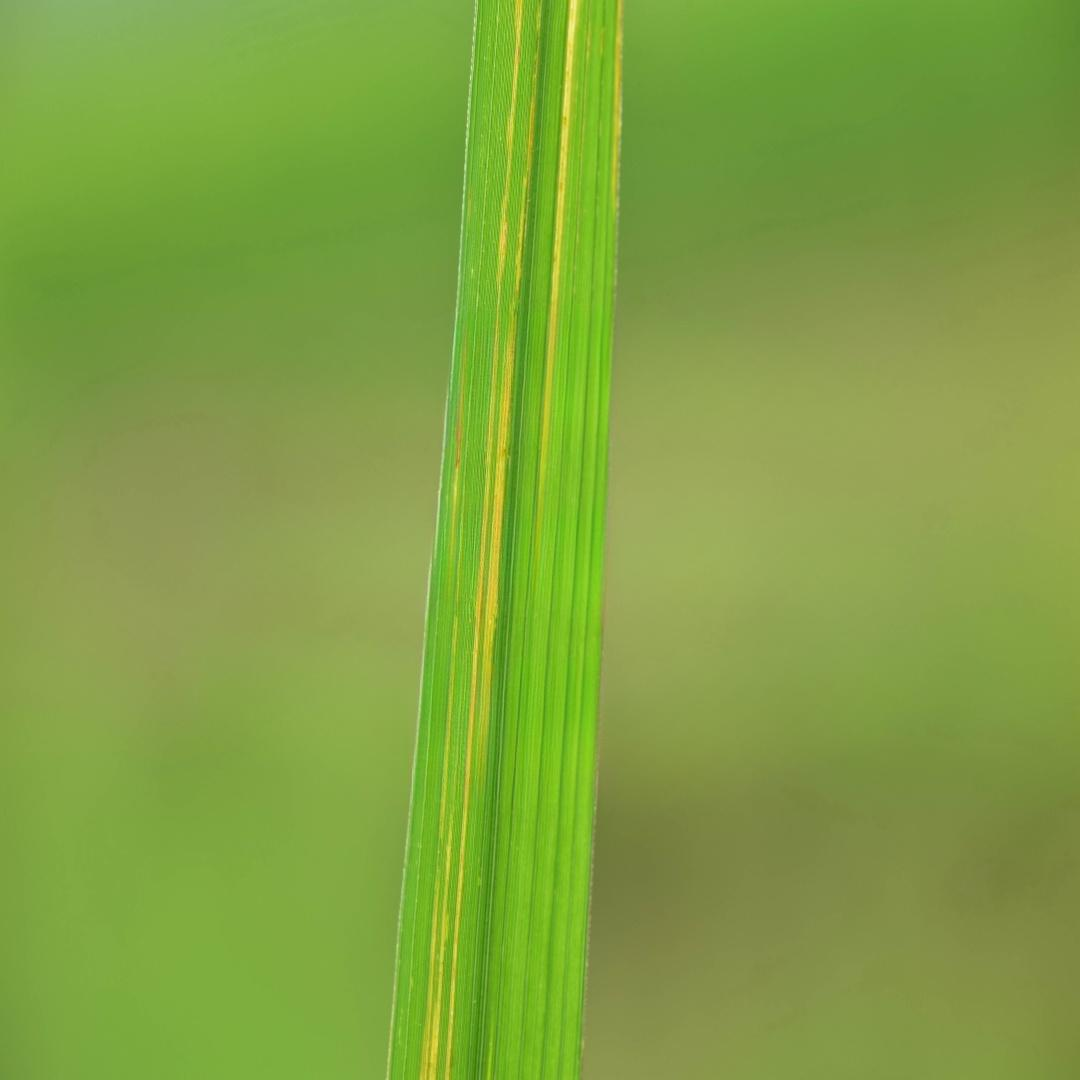BLS: (445, 1, 522, 1079), (475, 4, 540, 776), (534, 0, 578, 560), (421, 813, 453, 1079), (438, 595, 457, 844), (450, 345, 462, 573), (612, 0, 623, 199)
LEAF: (388, 0, 623, 1079)
